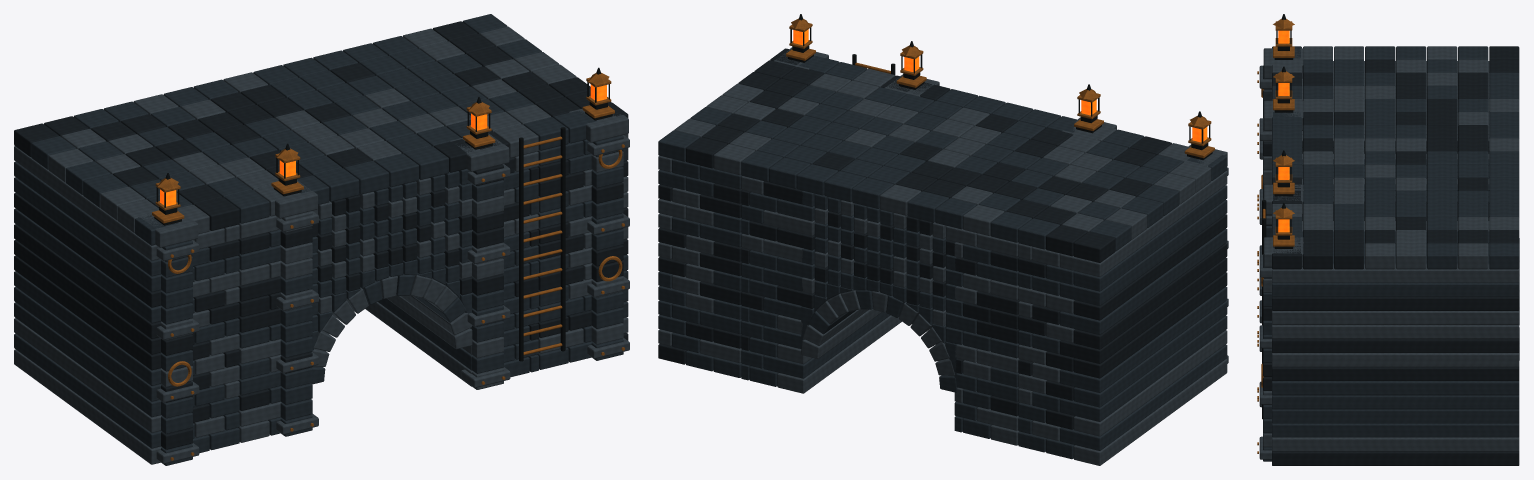
Rendered from canal_wall.fbx.
3 views of the same model, side by side, from view 1: azimuth 30°, elevation 25°; view 2: azimuth 150°, elevation 25°; view 3: azimuth 270°, elevation 25° (orthographic). The views are drawn at different scales.
Visible parts, largest first — view 1: canal_wall_structure, canal_wall_deck, canal_wall_posts, canal_wall_ironwork, canal_wall_lamp; view 2: canal_wall_structure, canal_wall_deck, canal_wall_lamp, canal_wall_posts; view 3: canal_wall_deck, canal_wall_structure, canal_wall_posts, canal_wall_lamp, canal_wall_ironwork.
Boxes of the visible parts, x1,y1,x2,y2 form: canal_wall_structure: (14,134,628,464); canal_wall_deck: (14,14,628,245); canal_wall_posts: (138,108,629,465); canal_wall_ironwork: (168,127,622,386); canal_wall_lamp: (152,67,614,225); canal_wall_structure: (658,155,1227,465); canal_wall_deck: (658,48,1227,262); canal_wall_lamp: (786,14,1214,159); canal_wall_posts: (774,47,1228,363); canal_wall_deck: (1272,46,1519,269); canal_wall_structure: (1272,61,1519,465); canal_wall_posts: (1257,48,1303,461); canal_wall_lamp: (1273,14,1294,248); canal_wall_ironwork: (1261,88,1266,419).
Bounding box in the file's own units: 799 × 450 × 423.
6 materials, 6 textured.
